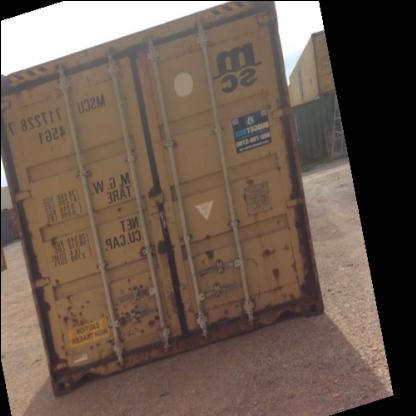Damage: (112, 274, 161, 338), (58, 290, 92, 335), (285, 252, 316, 298), (212, 299, 247, 329), (140, 179, 168, 211), (260, 261, 286, 293), (194, 242, 221, 268), (148, 228, 171, 256), (238, 172, 262, 198), (262, 89, 284, 111), (43, 225, 62, 248), (108, 197, 126, 218), (256, 240, 278, 256), (200, 225, 218, 237), (274, 156, 288, 170), (269, 214, 285, 224), (52, 272, 64, 285)
